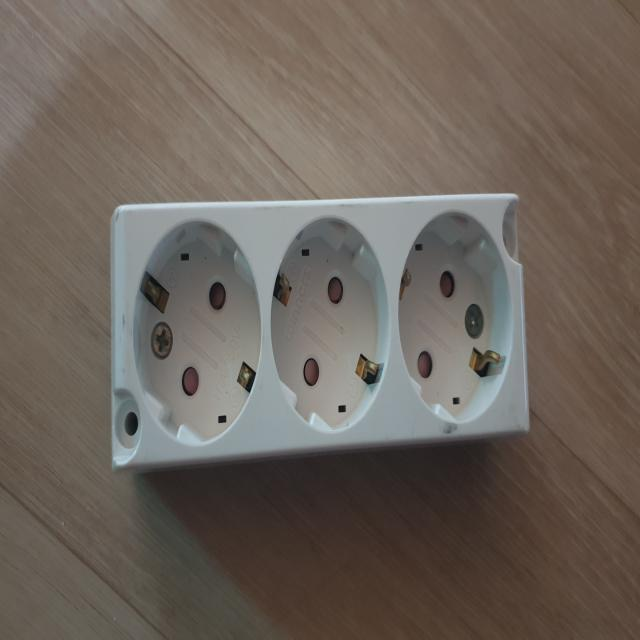typeb: (89, 169, 556, 506)
